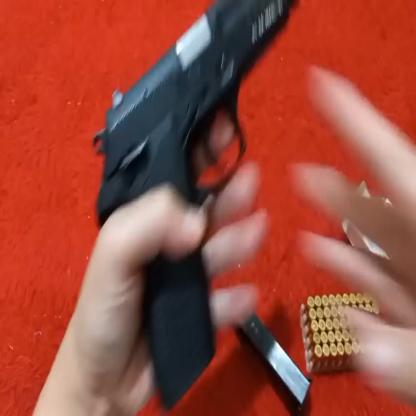handgun: (86, 1, 296, 407)
